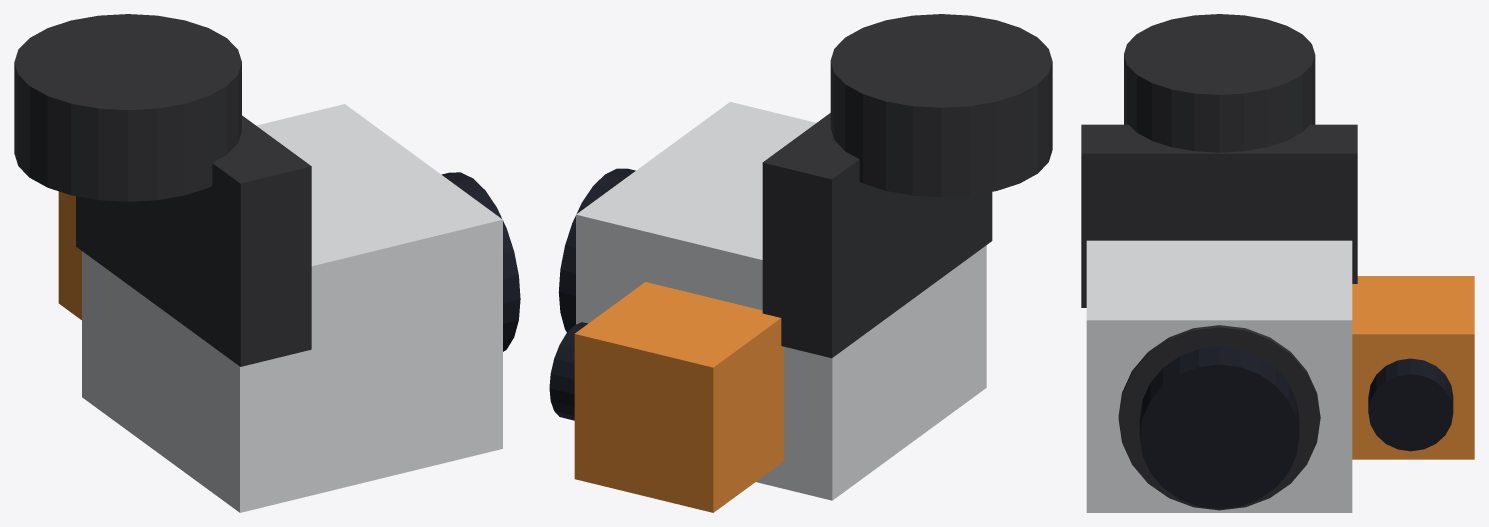
The model's file is SM_AeroDrone_Gimbal.glb.
3 views of the same model, side by side, from view 1: azimuth 30°, elevation 25°; view 2: azimuth 150°, elevation 25°; view 3: azimuth 270°, elevation 25° (orthographic). The views are drawn at different scales.
Parts seen in each view (by area): view 1: SM_AeroDrone_Gimbal; view 2: SM_AeroDrone_Gimbal; view 3: SM_AeroDrone_Gimbal.
Part boxes in pixels (left/top/right/bottom): SM_AeroDrone_Gimbal: left=14, top=14, right=520, bottom=512; SM_AeroDrone_Gimbal: left=549, top=14, right=1052, bottom=512; SM_AeroDrone_Gimbal: left=1081, top=14, right=1474, bottom=512.
Bounding box in the file's own units: 0.081 × 0.07 × 0.074.
